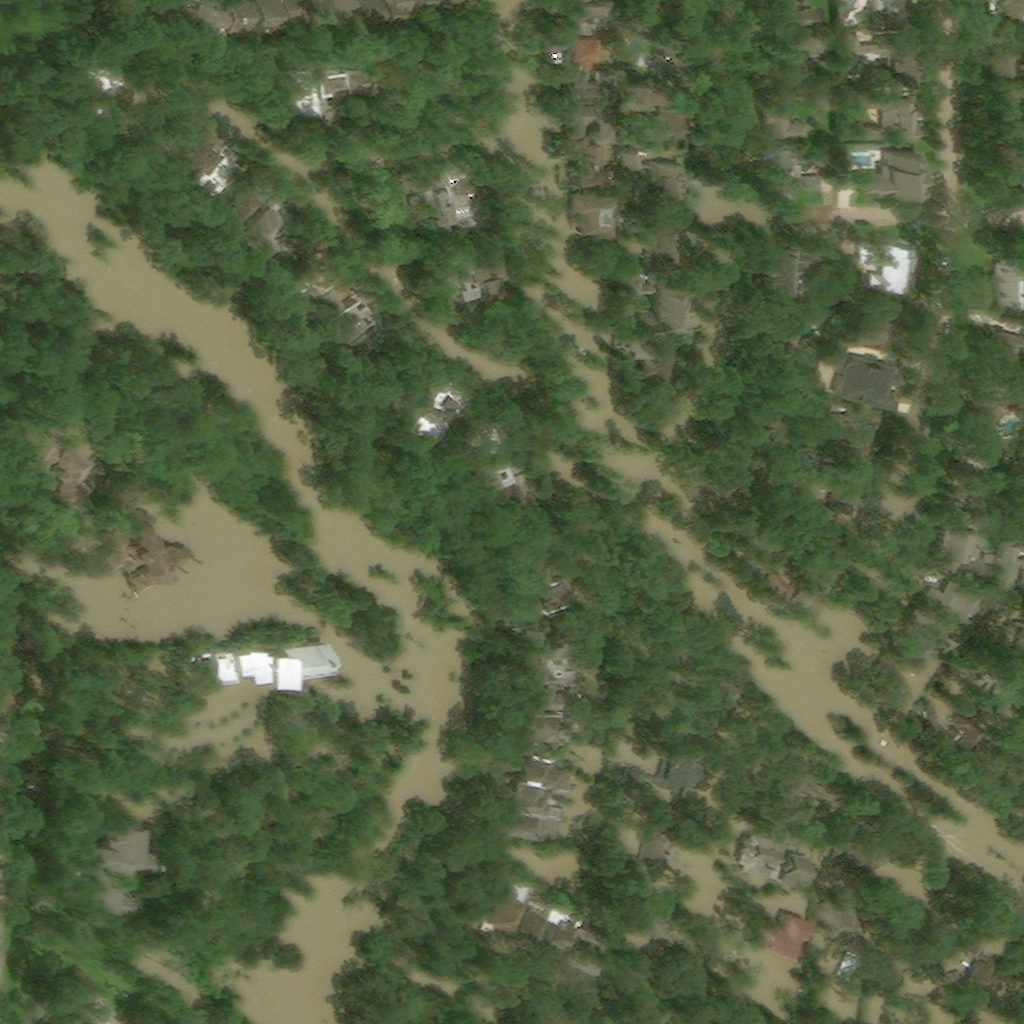destroyed: (90, 493, 184, 586), (249, 628, 321, 673), (785, 578, 833, 628), (216, 628, 253, 675), (190, 635, 222, 680), (880, 944, 929, 965), (803, 467, 819, 484)
major_damage: (445, 416, 536, 529), (52, 17, 143, 117), (400, 157, 479, 238), (80, 806, 133, 911), (267, 248, 357, 302), (823, 337, 896, 403), (745, 902, 810, 974), (401, 371, 465, 441), (422, 245, 490, 309), (871, 643, 937, 707), (171, 120, 234, 187), (621, 737, 697, 792), (736, 830, 812, 883), (952, 901, 1018, 962), (624, 818, 687, 880), (626, 84, 686, 148), (756, 760, 812, 827), (236, 188, 295, 246), (61, 964, 118, 1023), (282, 58, 346, 109), (964, 382, 1015, 445), (935, 513, 984, 574), (944, 450, 991, 511), (859, 242, 914, 294), (510, 741, 570, 788), (222, 168, 276, 219), (904, 588, 952, 643), (525, 912, 573, 965), (476, 875, 519, 931), (569, 192, 614, 243), (564, 141, 617, 184), (502, 776, 566, 811), (16, 417, 52, 478), (757, 242, 798, 293), (485, 806, 538, 842), (559, 913, 602, 957), (648, 279, 686, 328), (816, 888, 860, 929), (986, 326, 1019, 379), (640, 219, 681, 261), (652, 160, 684, 213), (859, 299, 894, 346), (861, 826, 895, 874), (569, 31, 613, 68), (810, 769, 850, 808), (533, 570, 576, 606), (50, 433, 84, 470), (555, 105, 593, 136), (0, 407, 29, 446), (990, 672, 1020, 707), (955, 718, 987, 750), (319, 305, 356, 332), (828, 837, 857, 871), (517, 653, 547, 685), (562, 73, 595, 102), (476, 236, 504, 270), (525, 705, 555, 736), (833, 946, 861, 978), (621, 329, 650, 357), (518, 622, 543, 654), (521, 680, 554, 703), (45, 473, 72, 498), (623, 273, 651, 296), (594, 104, 612, 139), (247, 0, 271, 24), (924, 571, 952, 591), (400, 53, 430, 71), (220, 0, 244, 21), (552, 20, 569, 49), (567, 0, 601, 13), (635, 799, 655, 820), (945, 580, 965, 599), (808, 306, 827, 325), (1003, 543, 1021, 563), (430, 307, 446, 328), (628, 150, 645, 168)
minor_damage: (758, 144, 826, 211), (762, 86, 834, 140), (856, 143, 920, 200), (770, 0, 822, 26), (998, 259, 1022, 310), (994, 46, 1014, 77), (807, 33, 827, 54), (996, 0, 1022, 7)
no_damage: (858, 87, 919, 141), (882, 32, 915, 82), (871, 0, 906, 28), (843, 33, 868, 52)
unclassified: (496, 518, 540, 558), (997, 138, 1022, 194), (507, 556, 546, 588), (999, 99, 1022, 137)
